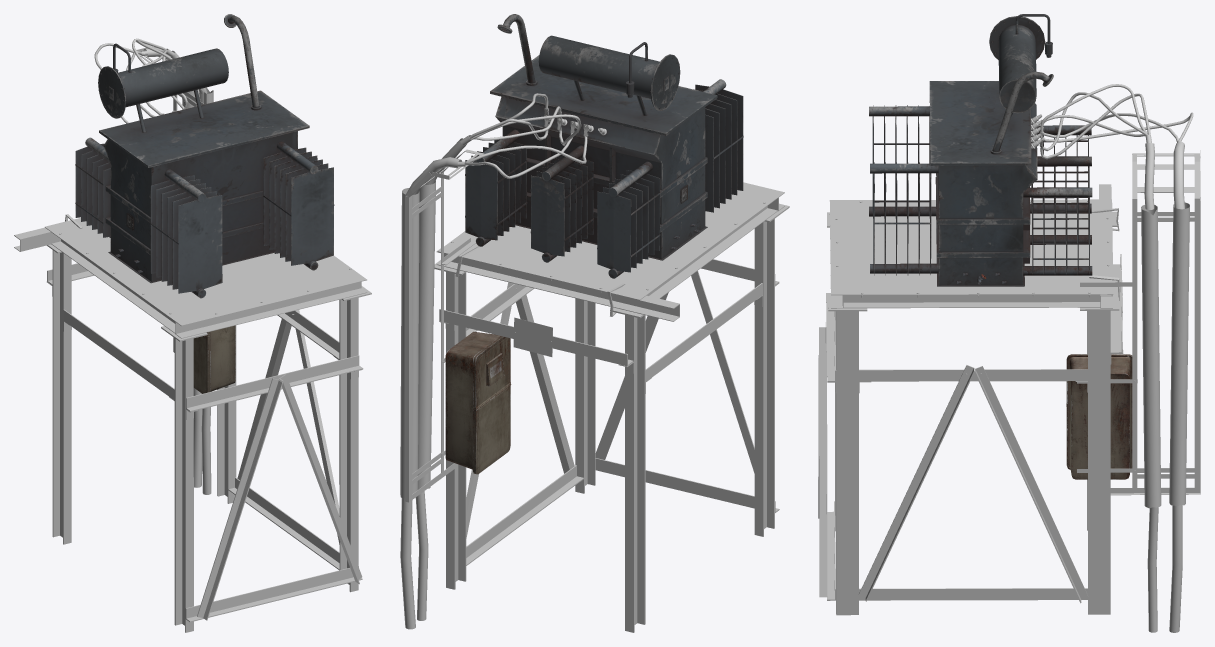
Rendered from uploads_files_5257633_Transformer_02.fbx.
The picture shows the model from 3 angles, left to right: view 1: azimuth 30°, elevation 25°; view 2: azimuth 150°, elevation 25°; view 3: azimuth 270°, elevation 25°; orthographic projection. The views are drawn at different scales.
Visible parts, largest first — view 1: Transformer_02; view 2: Transformer_02; view 3: Transformer_02.
Part boxes in pixels (<box>): Transformer_02: <box>14,14,371,632</box>; Transformer_02: <box>400,14,789,632</box>; Transformer_02: <box>818,14,1200,632</box>.
Bounding box in the file's own units: 164 × 370 × 235.
